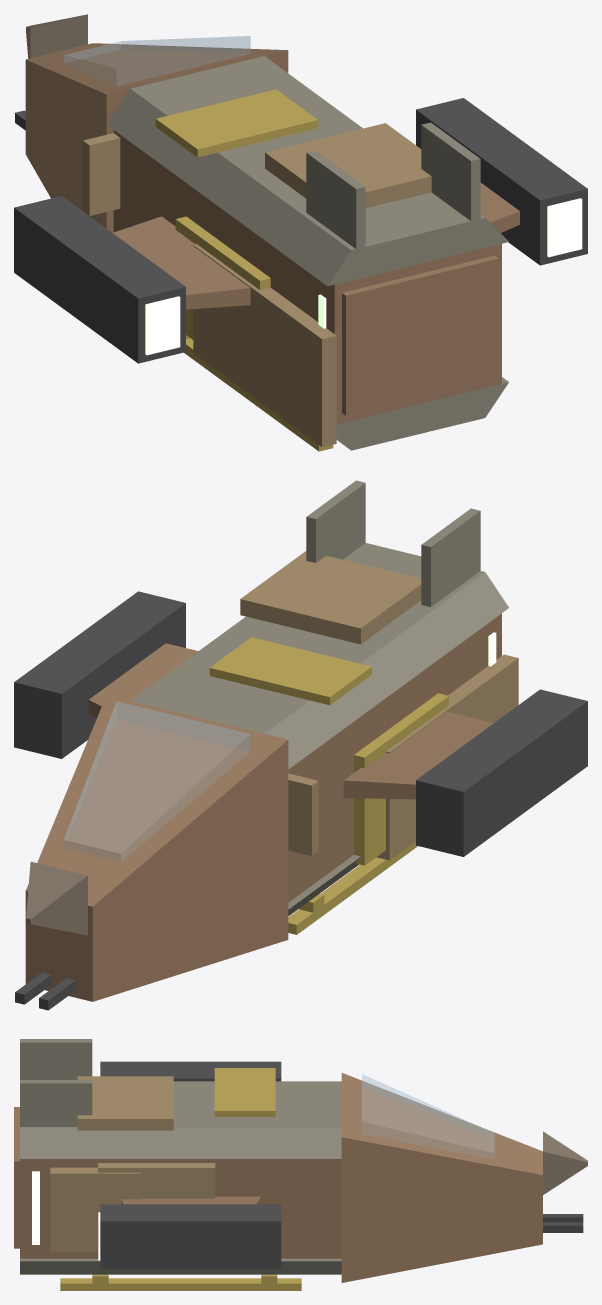
File: ship_XS_DROPSHIP.glb
3 views of the same model, one above another, from view 1: azimuth 30°, elevation 25°; view 2: azimuth 150°, elevation 25°; view 3: azimuth 270°, elevation 25° (orthographic). The views are drawn at different scales.
Parts seen in each view (by area): view 1: XS_DROPSHIP_Armor, XS_DROPSHIP_Hull-col, XS_DROPSHIP_Engines, XS_DROPSHIP_ScrapPlates, XS_DROPSHIP_Ramp-col, XS_DROPSHIP_ScrapTrim, XS_DROPSHIP_Glass-col, XS_DROPSHIP_EngineGlow, XS_DROPSHIP_RamSpikes, XS_DROPSHIP_Trim; view 2: XS_DROPSHIP_Hull-col, XS_DROPSHIP_Armor, XS_DROPSHIP_Engines, XS_DROPSHIP_ScrapPlates, XS_DROPSHIP_Glass-col, XS_DROPSHIP_ScrapTrim, XS_DROPSHIP_RamSpikes, XS_DROPSHIP_Trim; view 3: XS_DROPSHIP_Hull-col, XS_DROPSHIP_Armor, XS_DROPSHIP_Engines, XS_DROPSHIP_ScrapPlates, XS_DROPSHIP_Glass-col, XS_DROPSHIP_Trim, XS_DROPSHIP_ScrapTrim, XS_DROPSHIP_RamSpikes, XS_DROPSHIP_Ramp-col, XS_DROPSHIP_Lights.
Part boxes in pixels (x1=…): XS_DROPSHIP_Armor: x1=106, y1=56, x2=508, y2=450; XS_DROPSHIP_Hull-col: x1=25, y1=43, x2=519, y2=423; XS_DROPSHIP_Engines: x1=14, y1=98, x2=587, y2=363; XS_DROPSHIP_ScrapPlates: x1=83, y1=123, x2=431, y2=447; XS_DROPSHIP_Ramp-col: x1=342, y1=255, x2=498, y2=415; XS_DROPSHIP_ScrapTrim: x1=155, y1=89, x2=318, y2=339; XS_DROPSHIP_Glass-col: x1=64, y1=36, x2=250, y2=85; XS_DROPSHIP_EngineGlow: x1=145, y1=198, x2=582, y2=355; XS_DROPSHIP_RamSpikes: x1=26, y1=14, x2=87, y2=58; XS_DROPSHIP_Trim: x1=184, y1=335, x2=333, y2=451; XS_DROPSHIP_Hull-col: x1=25, y1=613, x2=501, y2=1001; XS_DROPSHIP_Armor: x1=131, y1=480, x2=508, y2=915; XS_DROPSHIP_Engines: x1=14, y1=591, x2=587, y2=1010; XS_DROPSHIP_ScrapPlates: x1=240, y1=551, x2=518, y2=860; XS_DROPSHIP_Glass-col: x1=64, y1=701, x2=250, y2=861; XS_DROPSHIP_ScrapTrim: x1=209, y1=637, x2=448, y2=865; XS_DROPSHIP_RamSpikes: x1=26, y1=861, x2=87, y2=935; XS_DROPSHIP_Trim: x1=288, y1=841, x2=417, y2=934; XS_DROPSHIP_Hull-col: x1=20, y1=1073, x2=542, y2=1282; XS_DROPSHIP_Armor: x1=20, y1=1039, x2=341, y2=1274; XS_DROPSHIP_Engines: x1=100, y1=1061, x2=583, y2=1268; XS_DROPSHIP_ScrapPlates: x1=50, y1=1076, x2=215, y2=1252; XS_DROPSHIP_Glass-col: x1=362, y1=1074, x2=494, y2=1158; XS_DROPSHIP_Trim: x1=60, y1=1274, x2=301, y2=1290; XS_DROPSHIP_ScrapTrim: x1=214, y1=1068, x2=275, y2=1116; XS_DROPSHIP_RamSpikes: x1=543, y1=1131, x2=587, y2=1194; XS_DROPSHIP_Ramp-col: x1=14, y1=1107, x2=19, y2=1248; XS_DROPSHIP_Lights: x1=32, y1=1171, x2=39, y2=1244.
Bounding box in the file's own units: 9.4 × 5.6 × 14.27.
